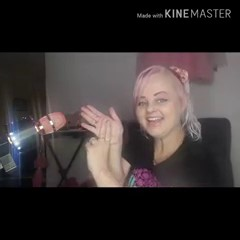N: (77, 101, 124, 172)
